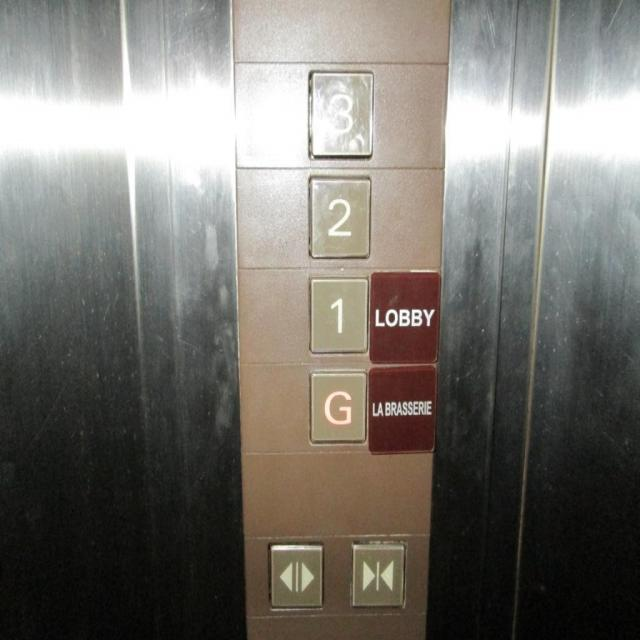1: (306, 270, 371, 356)
2: (304, 168, 374, 262)
3: (304, 64, 376, 161)
G: (306, 363, 369, 446)
close: (348, 533, 408, 612)
open: (265, 536, 325, 614)
